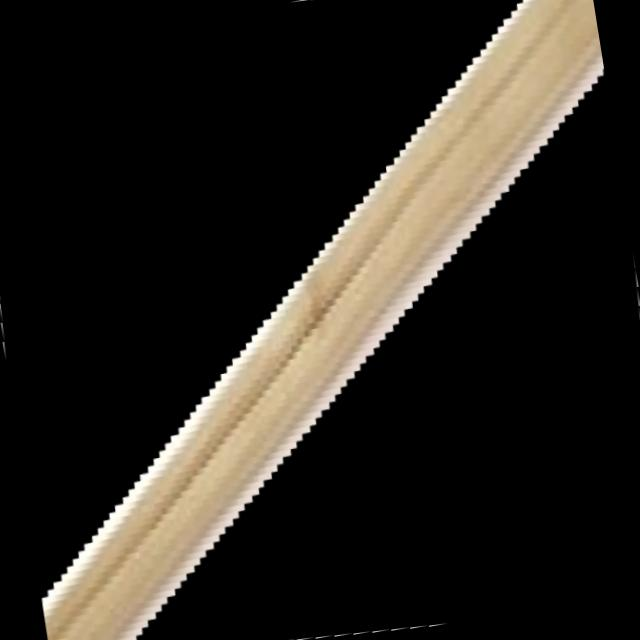others: (40, 0, 606, 640)
